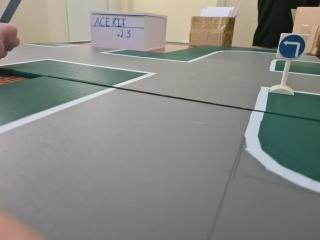left: (273, 30, 310, 63)
